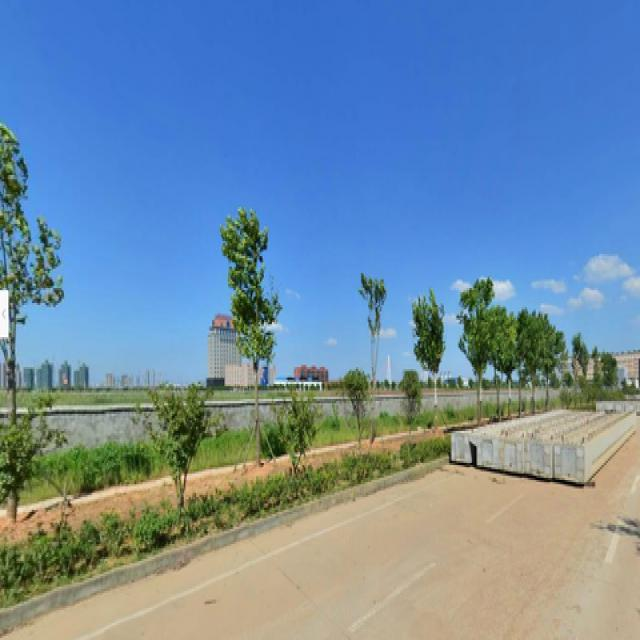meta: (220, 211, 280, 463), (356, 273, 387, 440), (462, 282, 494, 403), (414, 286, 442, 418)
